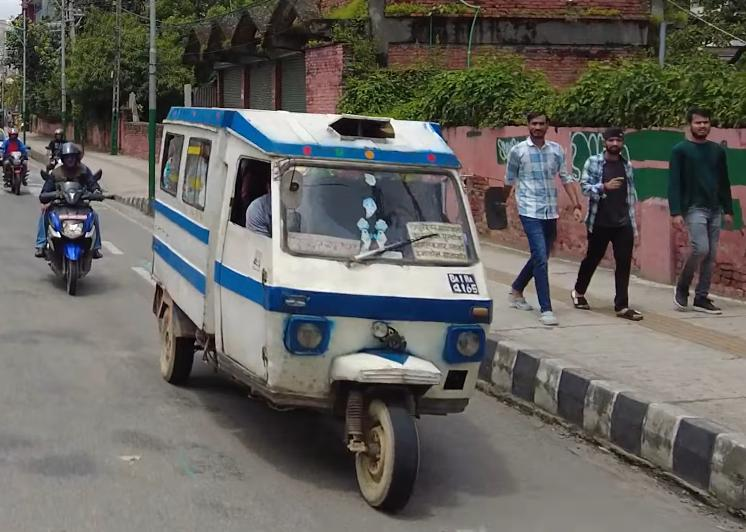bike: (0, 143, 32, 195)
scooter: (31, 163, 114, 299)
tempo: (142, 91, 498, 530)
